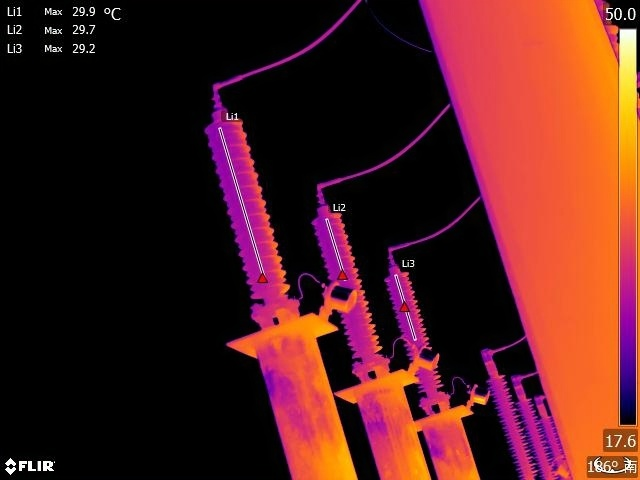lightning arrester: (199, 98, 302, 305), (309, 197, 395, 372), (385, 263, 457, 409), (488, 363, 534, 480), (513, 375, 562, 480), (536, 397, 566, 471)
